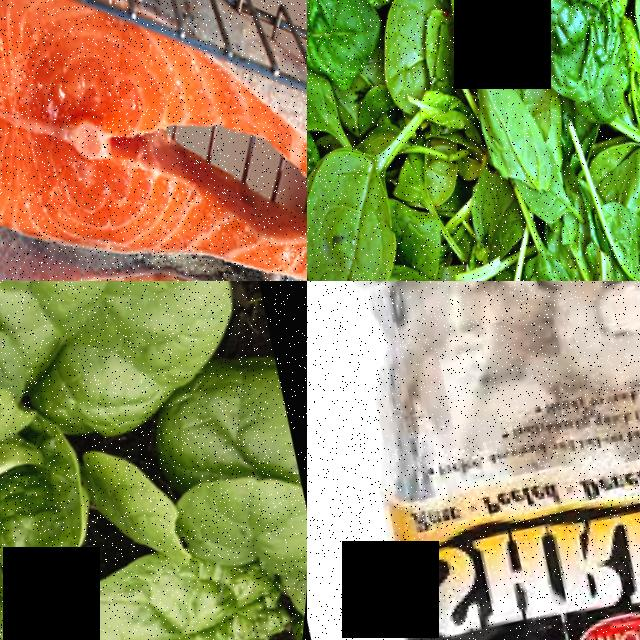salmon: (0, 0, 165, 266)
spinach: (0, 281, 265, 424), (61, 538, 280, 640), (151, 361, 306, 486), (307, 129, 433, 281), (170, 445, 307, 578), (0, 441, 111, 587), (466, 57, 566, 197), (514, 0, 640, 104), (358, 0, 451, 115), (307, 28, 347, 149)
